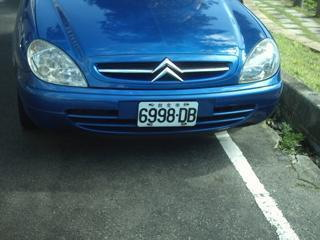plate: (136, 98, 201, 128)
